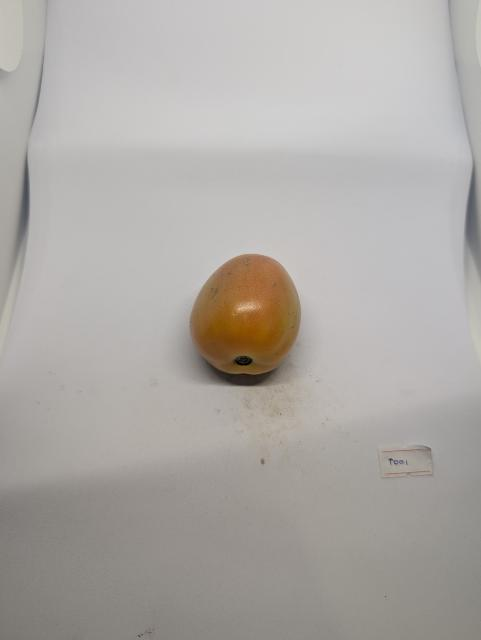turning: (187, 246, 311, 383)
